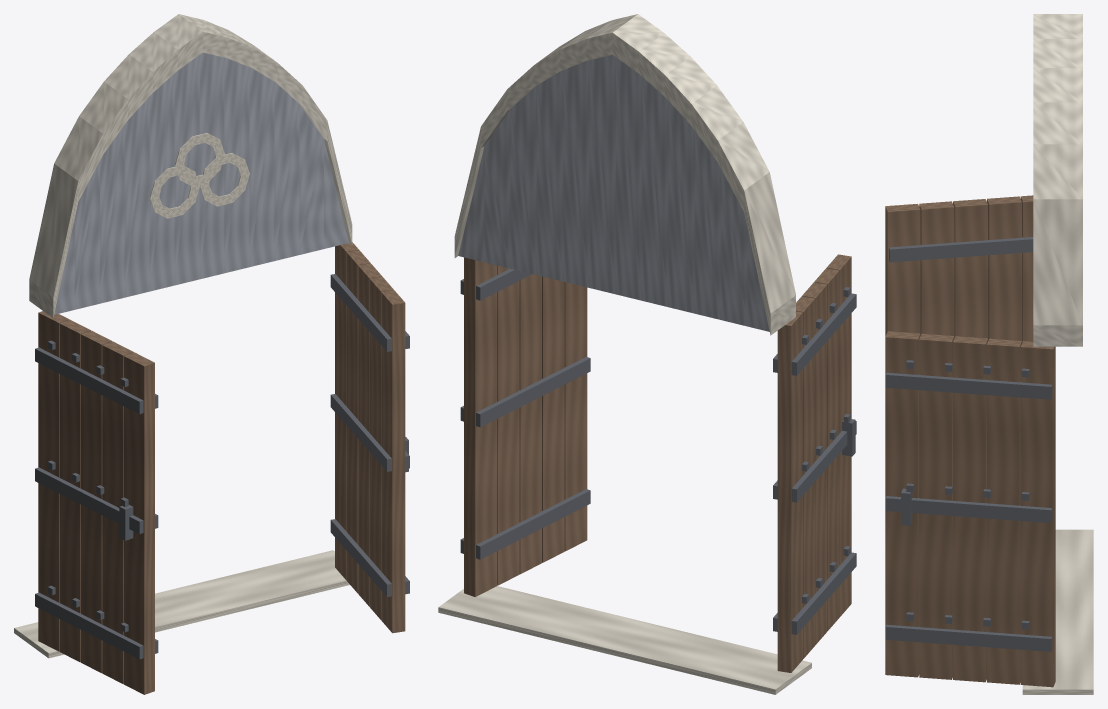
The picture shows the model from 3 angles, left to right: view 1: azimuth 30°, elevation 25°; view 2: azimuth 150°, elevation 25°; view 3: azimuth 270°, elevation 25°; orthographic projection. The views are drawn at different scales.
Parts seen in each view (by area): view 1: portal-door-open, door-leaf-west (×2), door-leaf-east (×2); view 2: portal-door-open, door-leaf-east (×2), door-leaf-west (×2); view 3: door-leaf-east (×2), portal-door-open, door-leaf-west (×2).
Part boxes in pixels (left/top/right/bottom): portal-door-open: left=14, top=14, right=352, bottom=658; door-leaf-west (×2): left=35, top=311, right=158, bottom=694; door-leaf-east (×2): left=330, top=242, right=409, bottom=633; portal-door-open: left=438, top=14, right=811, bottom=694; door-leaf-east (×2): left=460, top=257, right=590, bottom=596; door-leaf-west (×2): left=773, top=254, right=856, bottom=672; door-leaf-east (×2): left=885, top=331, right=1055, bottom=687; portal-door-open: left=1022, top=14, right=1093, bottom=694; door-leaf-west (×2): left=885, top=195, right=1033, bottom=342.
Bounding box in the file's own units: 3.2 × 5.6 × 1.76.
4 materials, 3 textured.
